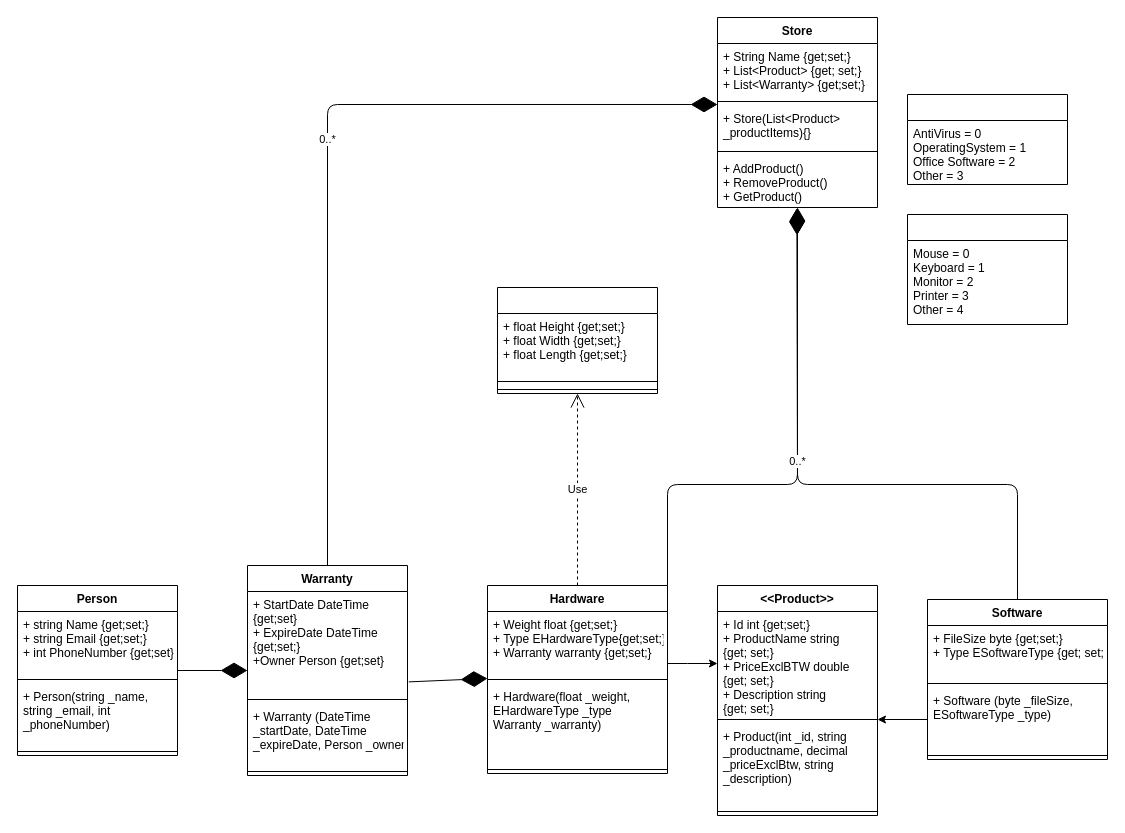
Some shapes in this 1125 by 833 pixel diagram are drawn without their labels. Each missing label, with the box of its shape:
EHardwareType: (906, 214, 1068, 324)
ESoftwareType: (906, 94, 1068, 184)
ISize: (496, 286, 658, 394)
